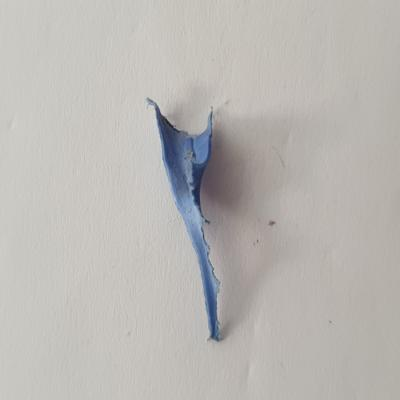plastic: (138, 92, 229, 346)
